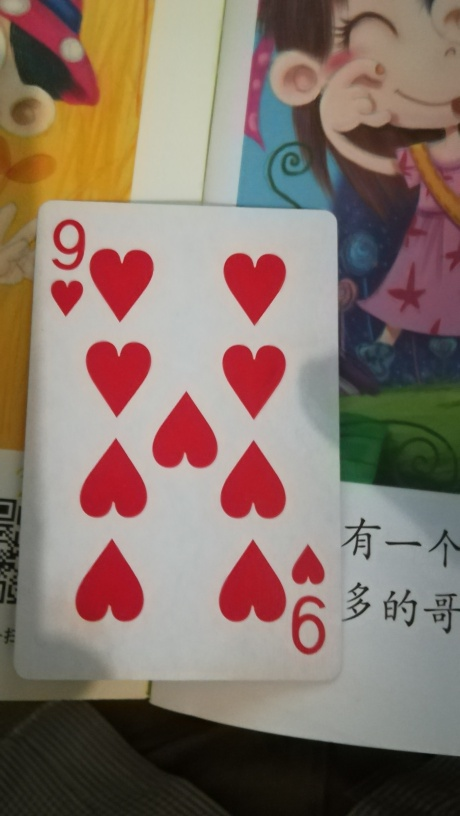hx 9: (13, 197, 338, 682)
